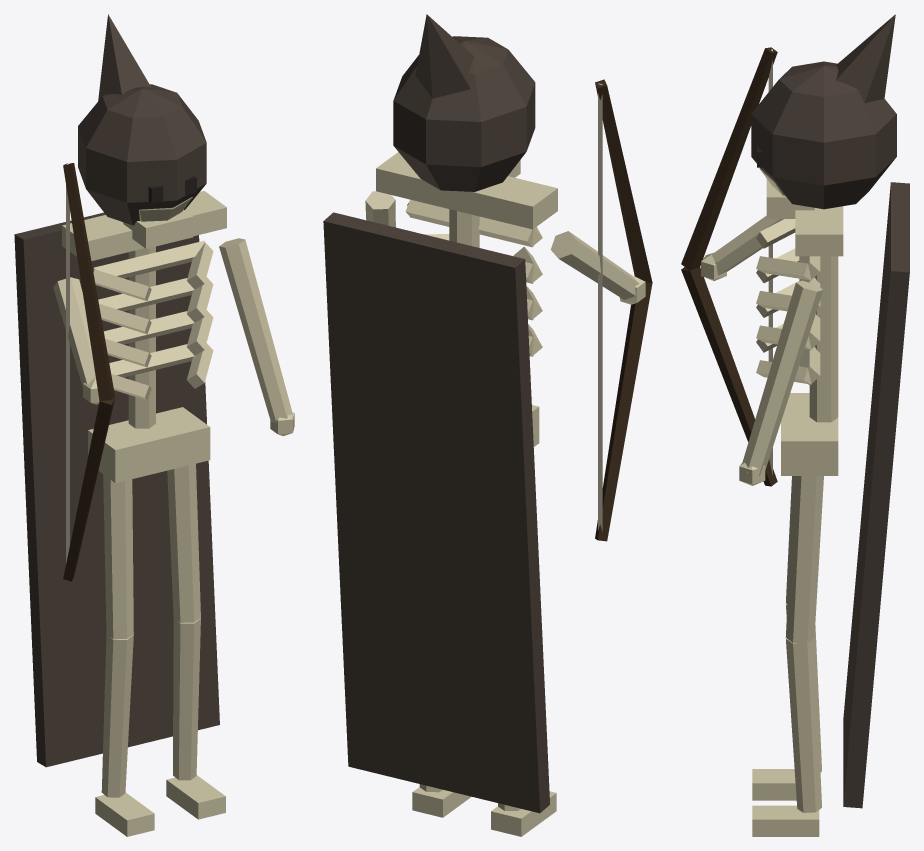
The model's file is knochenschuetze.glb.
3 views of the same model, side by side, from view 1: azimuth 30°, elevation 25°; view 2: azimuth 150°, elevation 25°; view 3: azimuth 270°, elevation 25° (orthographic). The views are drawn at different scales.
Bounding box in the file's own units: 0.5717 × 1.84 × 0.4784.
Materials: 1 (1 with a texture image).
